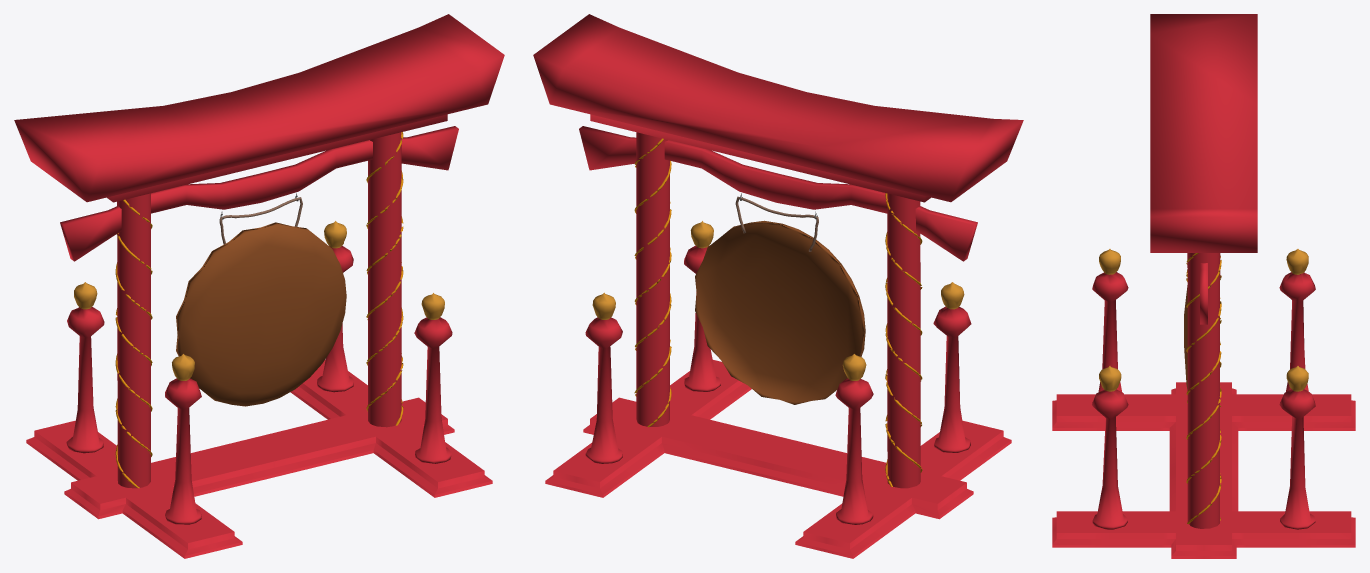
Rendered from chinagong.glb.
3 renders of one model, left to right at view 1: azimuth 30°, elevation 25°; view 2: azimuth 150°, elevation 25°; view 3: azimuth 270°, elevation 25°, orthographic. The views are drawn at different scales.
Visible parts, largest first — view 1: Gong_Cube.008, Sphere, golden_siral_Cylinder.007; view 2: Gong_Cube.008, Sphere, golden_siral_Cylinder.007; view 3: Gong_Cube.008, golden_siral_Cylinder.007.
Boxes of the visible parts, x1=… form: Gong_Cube.008: x1=14, y1=14, x2=504, y2=558; Sphere: x1=176, y1=193, x2=346, y2=406; golden_siral_Cylinder.007: x1=115, y1=132, x2=403, y2=488; Gong_Cube.008: x1=533, y1=14, x2=1023, y2=558; Sphere: x1=695, y1=193, x2=865, y2=404; golden_siral_Cylinder.007: x1=634, y1=138, x2=922, y2=486; Gong_Cube.008: x1=1052, y1=14, x2=1355, y2=558; golden_siral_Cylinder.007: x1=1186, y1=253, x2=1221, y2=524.
Bounding box in the file's own units: 6.4 × 5.29 × 4.04.
